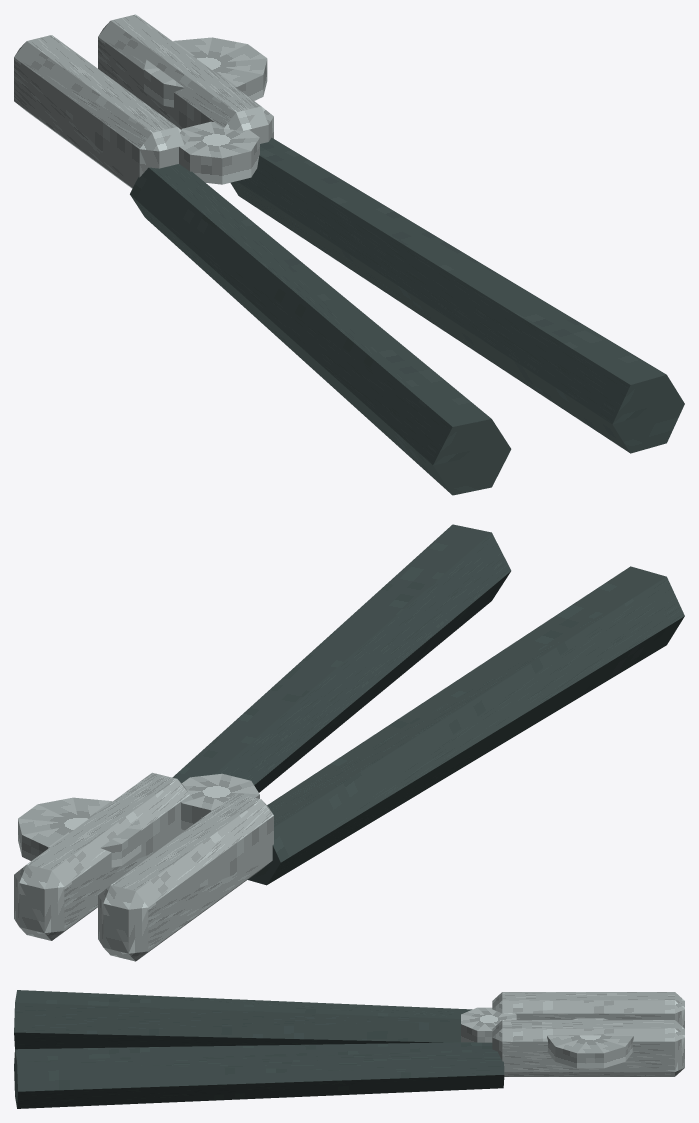
The model's file is can_opener.glb.
3 renders of one model, top to bottom at view 1: azimuth 30°, elevation 25°; view 2: azimuth 150°, elevation 25°; view 3: azimuth 270°, elevation 25°, orthographic. The views are drawn at different scales.
Visible parts, largest first — view 1: block_hinged arm 1, block_hinged arm -1, block_working jaw -1, block_working jaw 1, block_cutter wheel, block_pivot; view 2: block_hinged arm -1, block_hinged arm 1, block_working jaw -1, block_working jaw 1, block_cutter wheel, block_pivot; view 3: block_hinged arm 1, block_hinged arm -1, block_working jaw 1, block_working jaw -1, block_cutter wheel, block_pivot.
Part boxes in pixels (x1,y1,x2,y2): block_hinged arm 1: (230, 137, 684, 453); block_hinged arm -1: (130, 164, 511, 495); block_working jaw -1: (14, 35, 189, 188); block_working jaw 1: (98, 14, 273, 143); block_cutter wheel: (144, 37, 267, 107); block_pivot: (179, 121, 259, 184); block_hinged arm -1: (248, 566, 684, 885); block_hinged arm 1: (172, 524, 511, 792); block_working jaw -1: (98, 793, 273, 961); block_working jaw 1: (14, 772, 189, 940); block_cutter wheel: (18, 797, 141, 867); block_pivot: (181, 773, 259, 830); block_hinged arm 1: (14, 1042, 504, 1108); block_hinged arm -1: (14, 990, 472, 1049); block_working jaw 1: (492, 1020, 684, 1076); block_working jaw -1: (492, 992, 684, 1028); block_cutter wheel: (547, 1018, 633, 1068); block_pivot: (461, 1007, 516, 1042).
Size of the model in its own units: 0.0626 by 0.0217 by 0.21.
1 material, 1 textured.
